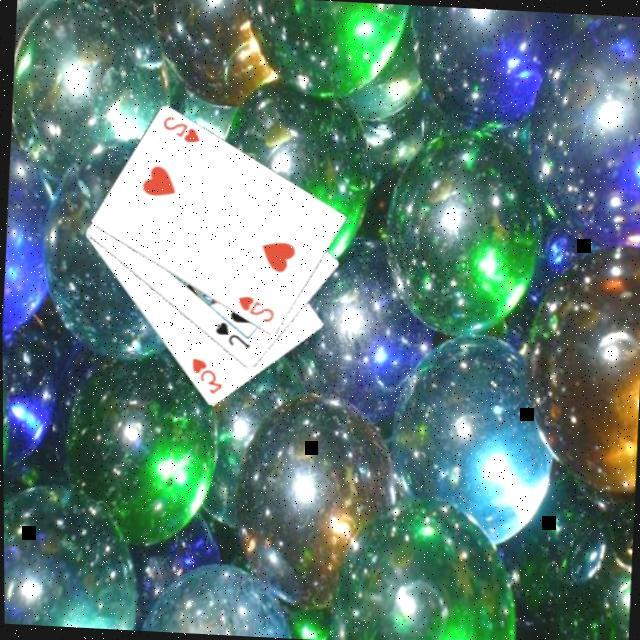2H: (160, 111, 206, 145), (234, 290, 278, 324)
3H: (187, 352, 227, 396)
JS: (211, 316, 255, 351)
